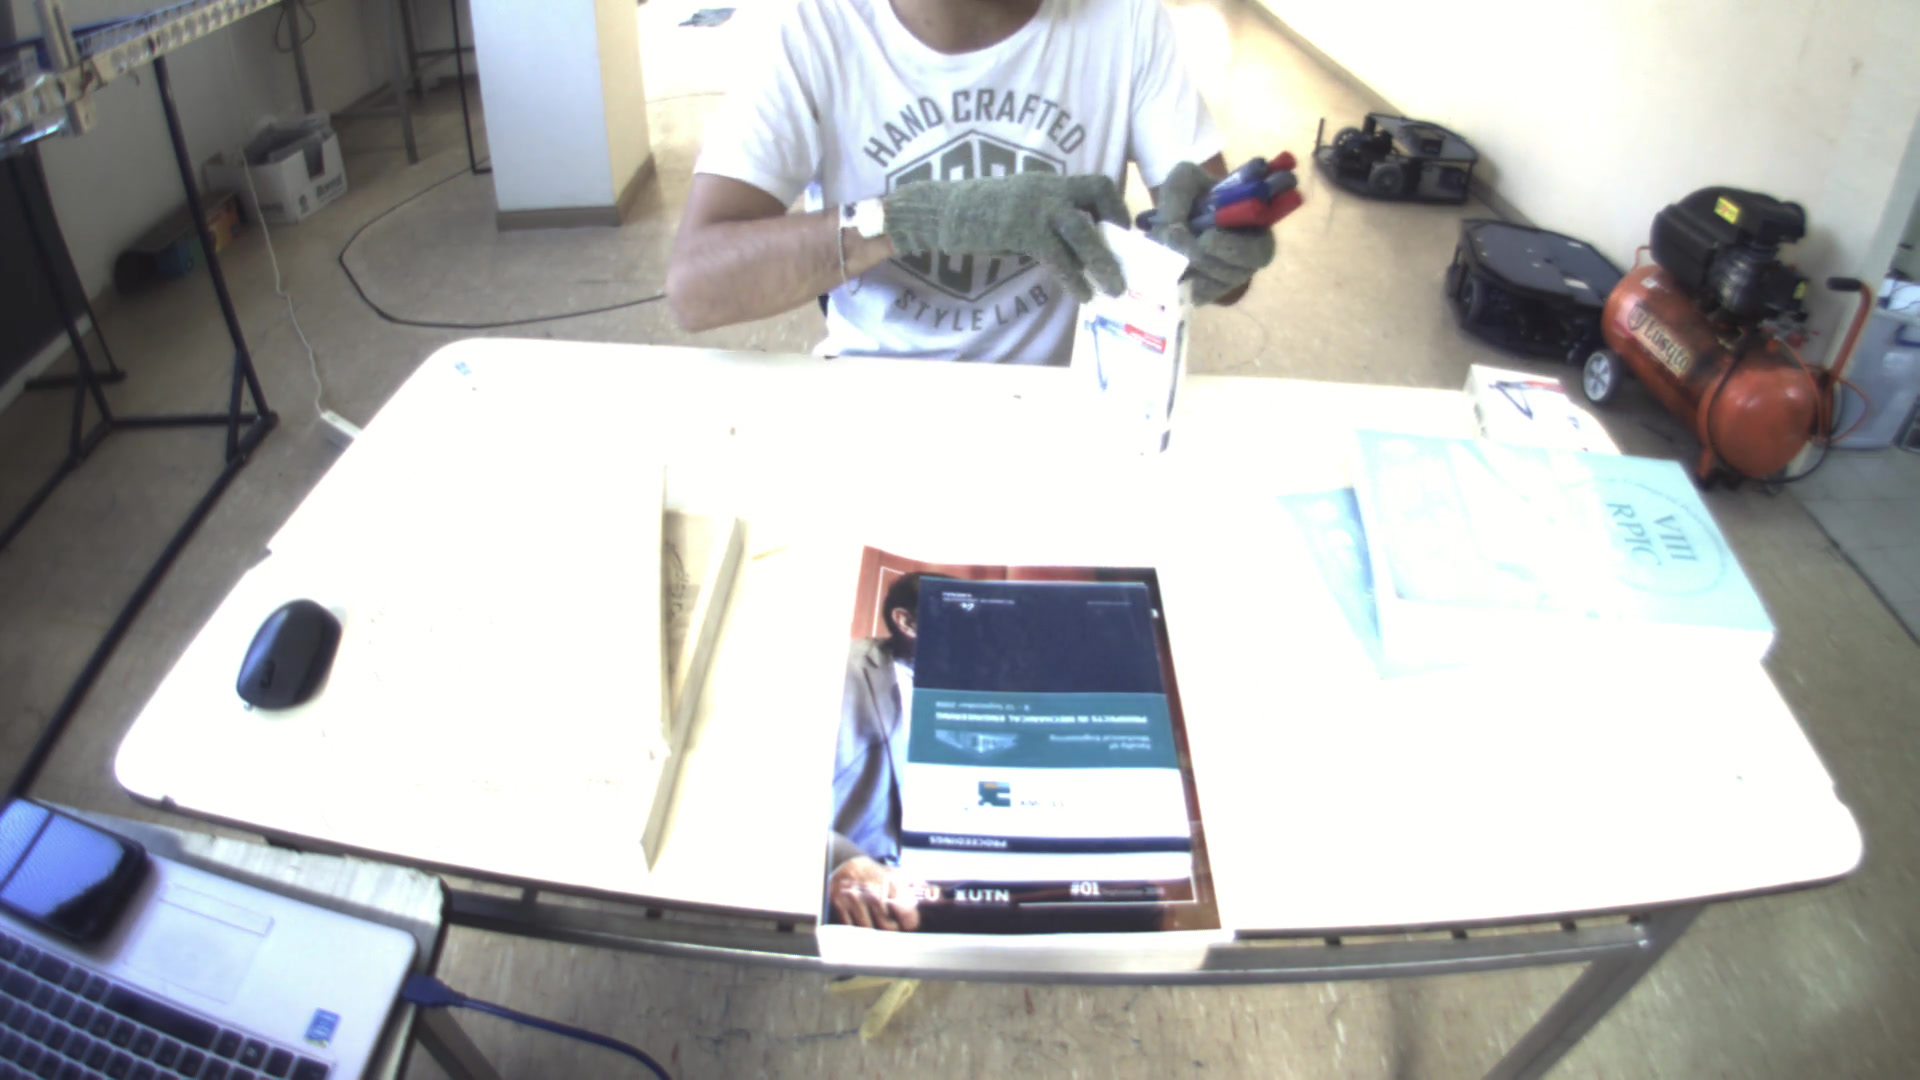hand: (858, 171, 1143, 305), (1159, 165, 1276, 309)
